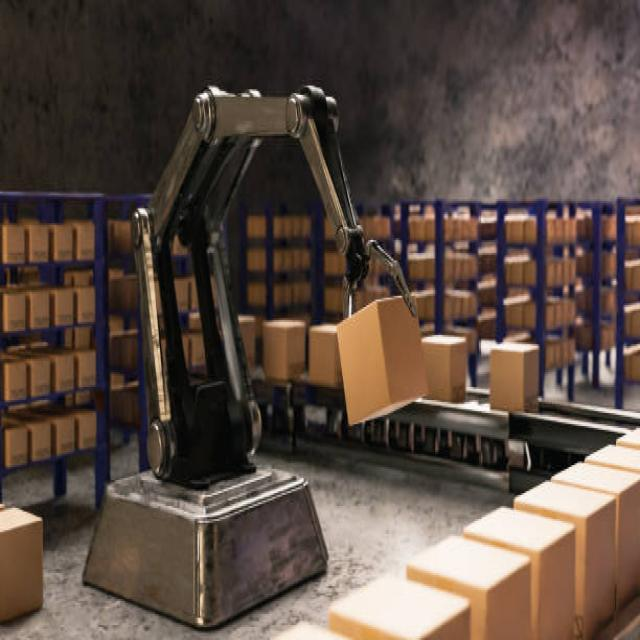Robotic-arm: (122, 62, 396, 484)
